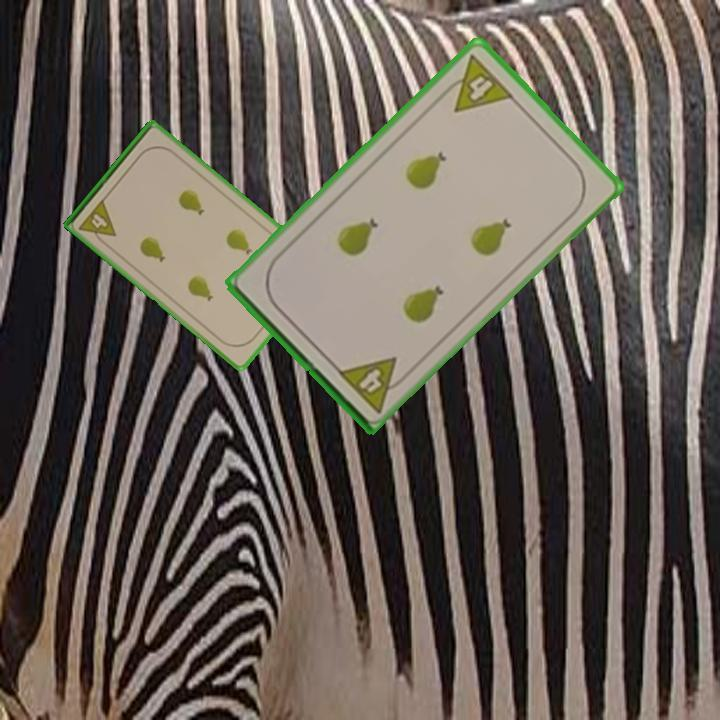4p: (436, 51, 517, 115), (333, 353, 412, 416), (75, 195, 119, 248)
